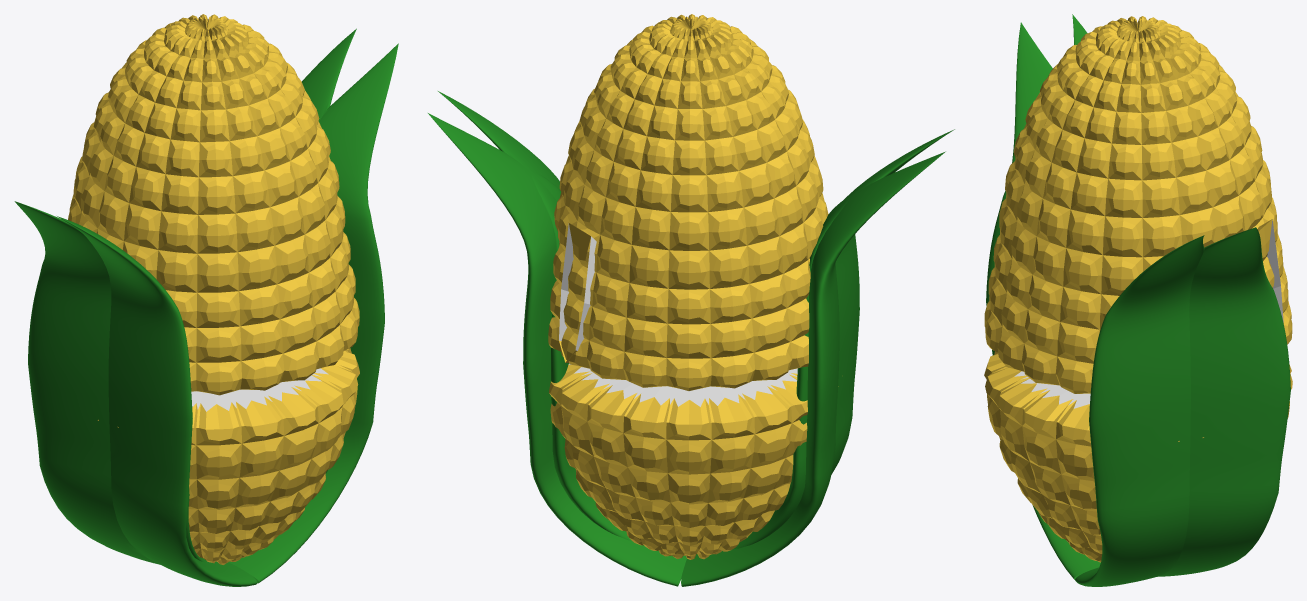
File: CornSliced.fbx
3 renders of one model, left to right at view 1: azimuth 30°, elevation 25°; view 2: azimuth 150°, elevation 25°; view 3: azimuth 270°, elevation 25°, orthographic.
Visible parts, largest first — view 1: Сфера.001, КриваяБезье, Сфера; view 2: Сфера.001, КриваяБезье, Сфера; view 3: Сфера.001, КриваяБезье, Сфера.
Boxes of the visible parts, x1,y1,x2,y2 form: Сфера.001: (68, 14, 359, 395); КриваяБезье: (14, 28, 398, 586); Сфера: (97, 348, 359, 564); Сфера.001: (548, 14, 828, 390); КриваяБезье: (428, 91, 954, 586); Сфера: (549, 363, 838, 559); Сфера.001: (984, 16, 1292, 393); КриваяБезье: (986, 14, 1290, 586); Сфера: (984, 351, 1292, 562).
Size of the model in its own units: 366 by 424 by 216.
